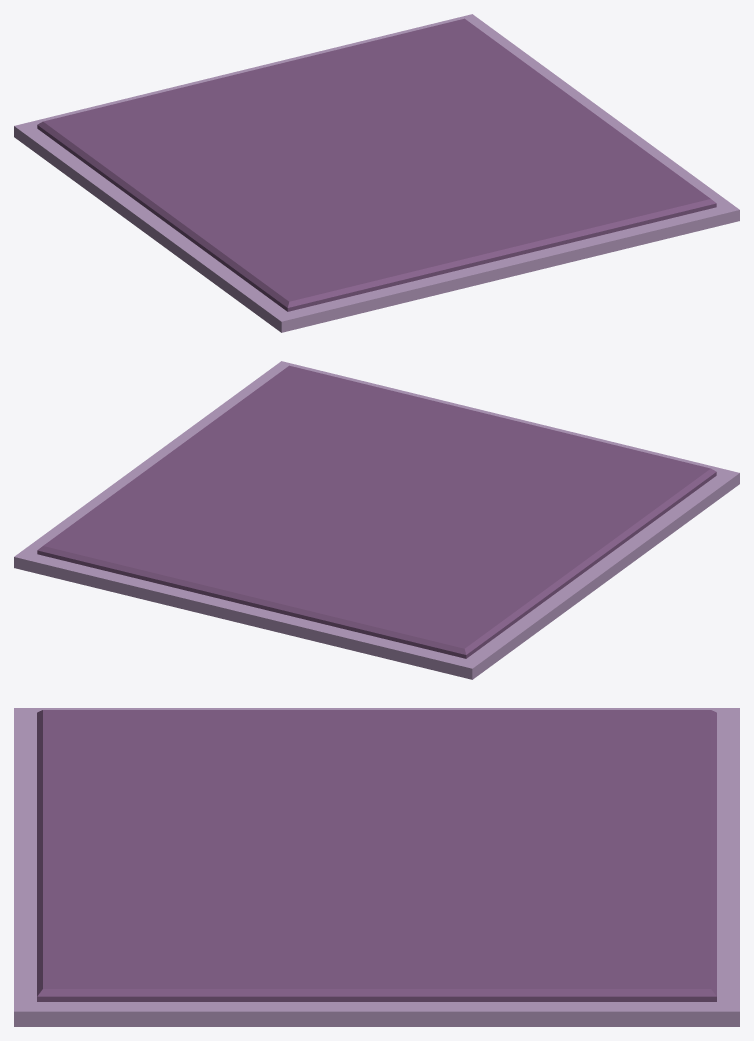
Rendered from Floor3.fbx.
3 views of the same model, one above another, from view 1: azimuth 30°, elevation 25°; view 2: azimuth 150°, elevation 25°; view 3: azimuth 270°, elevation 25° (orthographic). The views are drawn at different scales.
Visible parts, largest first — view 1: Floor_3; view 2: Floor_3; view 3: Floor_3.
Boxes of the visible parts, x1,y1,x2,y2 form: Floor_3: (14, 14, 739, 332); Floor_3: (14, 361, 739, 679); Floor_3: (14, 708, 739, 1026).
Bounding box in the file's own units: 560 × 22.03 × 566.
